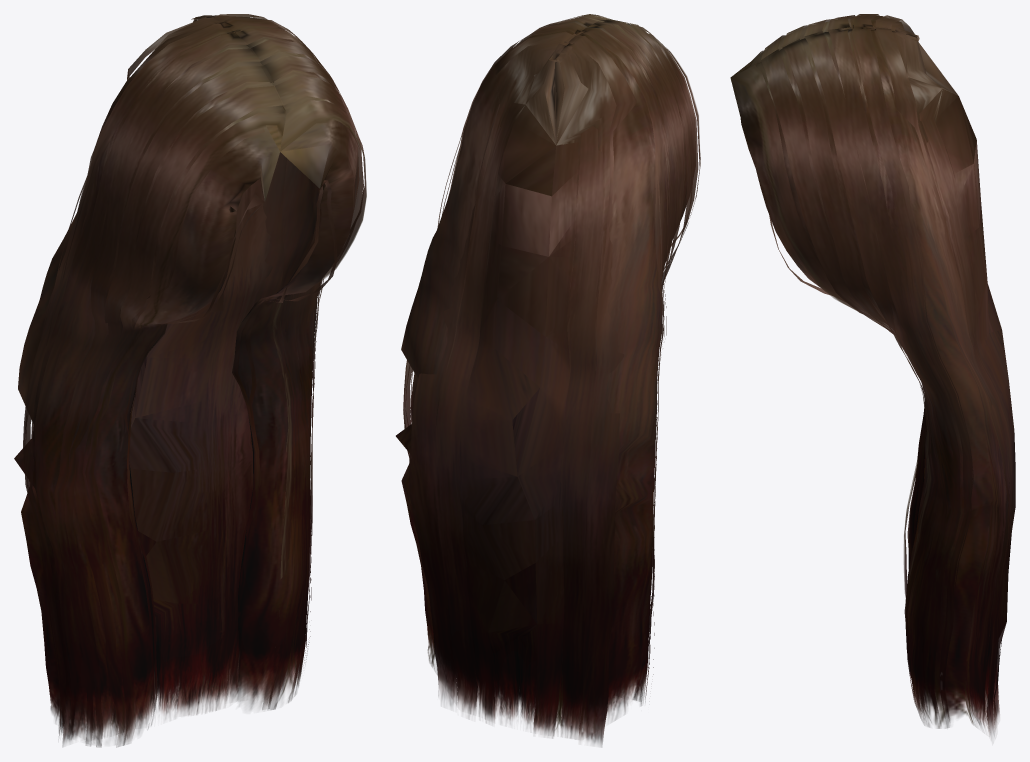
The model's file is long-african.glb.
3 views of the same model, side by side, from view 1: azimuth 30°, elevation 25°; view 2: azimuth 150°, elevation 25°; view 3: azimuth 270°, elevation 25° (orthographic). The views are drawn at different scales.
Parts seen in each view (by area): view 1: hair_long; view 2: hair_long; view 3: hair_long.
Part boxes in pixels (x1=…): hair_long: x1=14, y1=14, x2=366, y2=747; hair_long: x1=396, y1=14, x2=700, y2=746; hair_long: x1=730, y1=14, x2=1015, y2=738.
Bounding box in the file's own units: 0.3109 × 0.7739 × 0.2917.
1 material, 1 textured.
